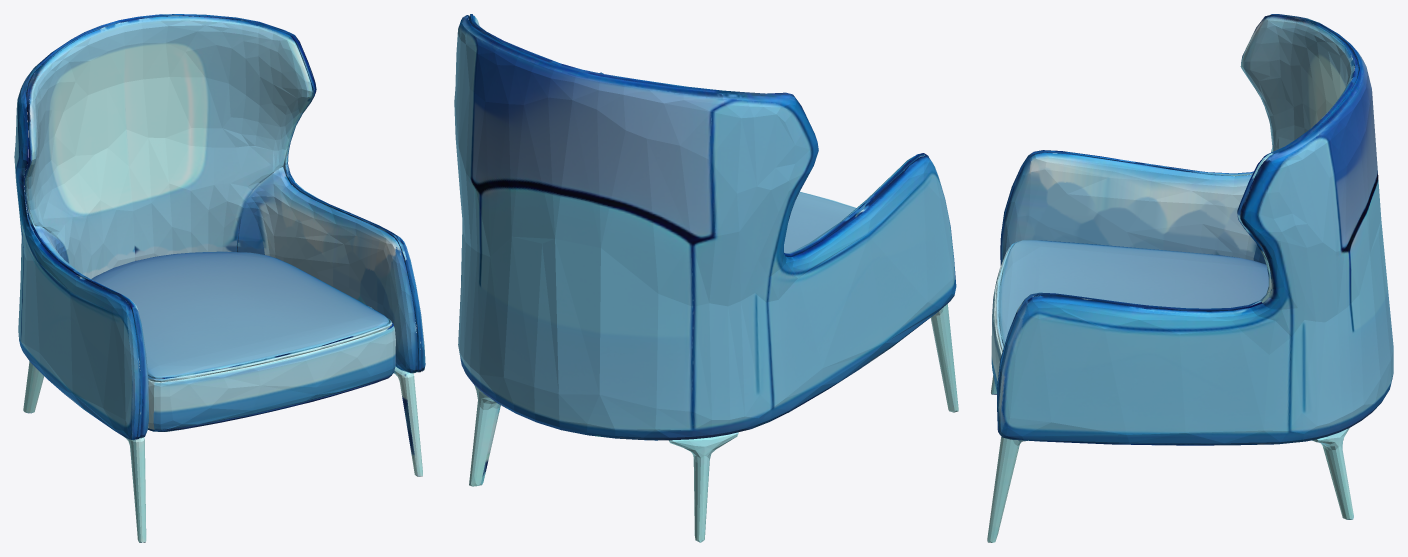
File: edited_mesh.glb
3 views of the same model, side by side, from view 1: azimuth 30°, elevation 25°; view 2: azimuth 150°, elevation 25°; view 3: azimuth 270°, elevation 25° (orthographic). The views are drawn at different scales.
Visible parts, largest first — view 1: solid_001_wire; view 2: solid_001_wire; view 3: solid_001_wire.
Part boxes in pixels (x1,y1,x2,y2): solid_001_wire: (14,14,425,542); solid_001_wire: (454,14,958,542); solid_001_wire: (987,14,1393,542).
Size of the model in its own units: 1.17 by 1.37 by 1.26.
1 material, 1 textured.
